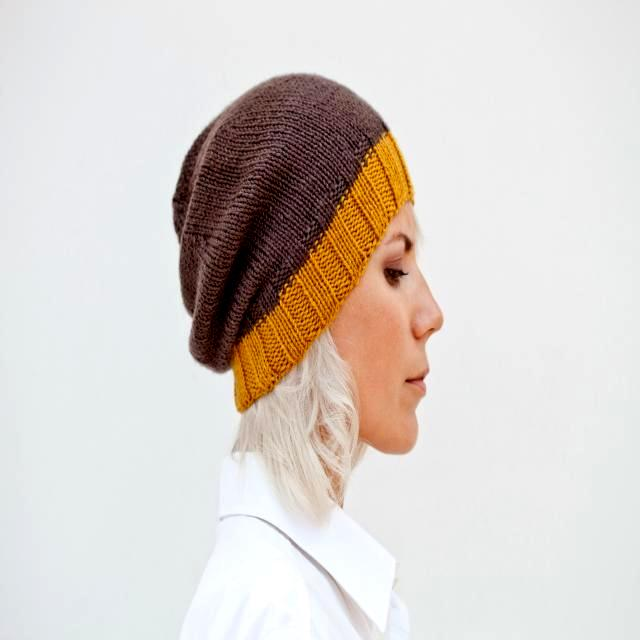no_hard_hat: (173, 75, 414, 411)
person: (169, 72, 440, 640)
